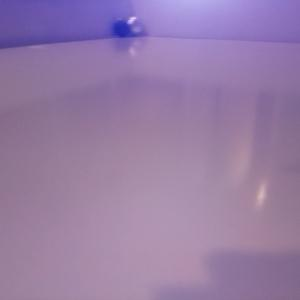alive_ball: (127, 16, 143, 36)
dead_ball: (113, 19, 130, 37)
